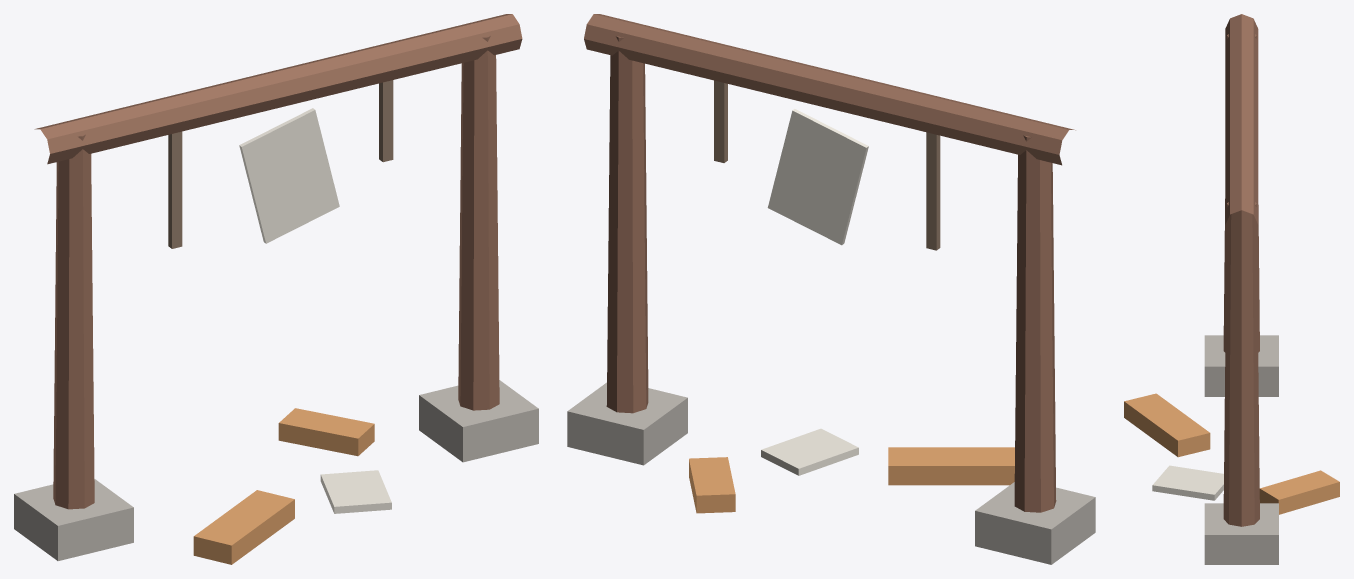
3 views of the same model, side by side, from view 1: azimuth 30°, elevation 25°; view 2: azimuth 150°, elevation 25°; view 3: azimuth 270°, elevation 25° (orthographic). The views are drawn at different scales.
Visible parts, largest first — view 1: WB_larchDrumFrame; view 2: WB_larchDrumFrame; view 3: WB_larchDrumFrame.
Boxes of the visible parts, x1,y1,x2,y2 form: WB_larchDrumFrame: (14, 14, 538, 564); WB_larchDrumFrame: (567, 14, 1095, 564); WB_larchDrumFrame: (1124, 14, 1339, 564).
Size of the model in its own units: 5.7 by 4.7 by 2.6.
